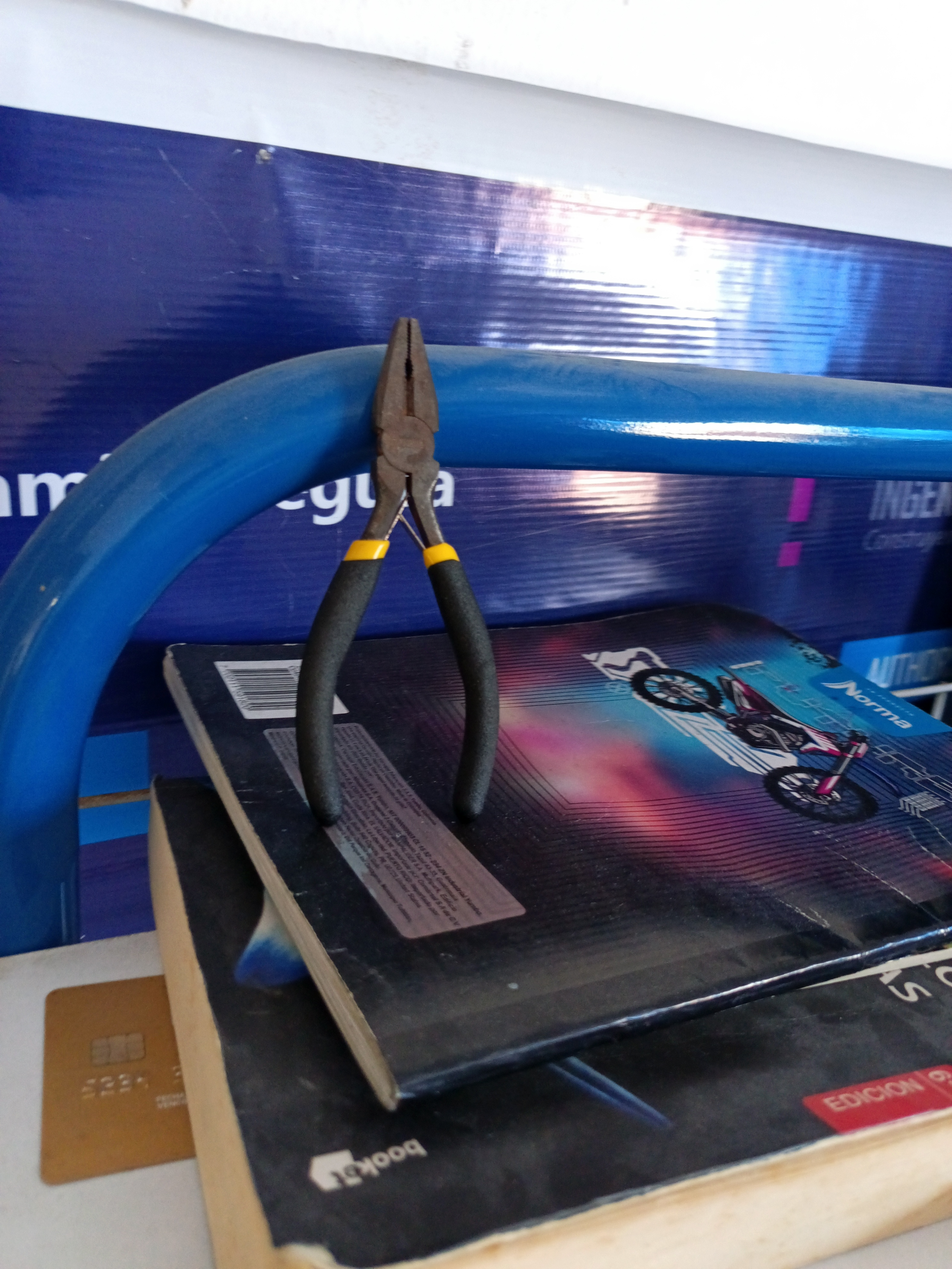Pinzas: (296, 317, 499, 825)
